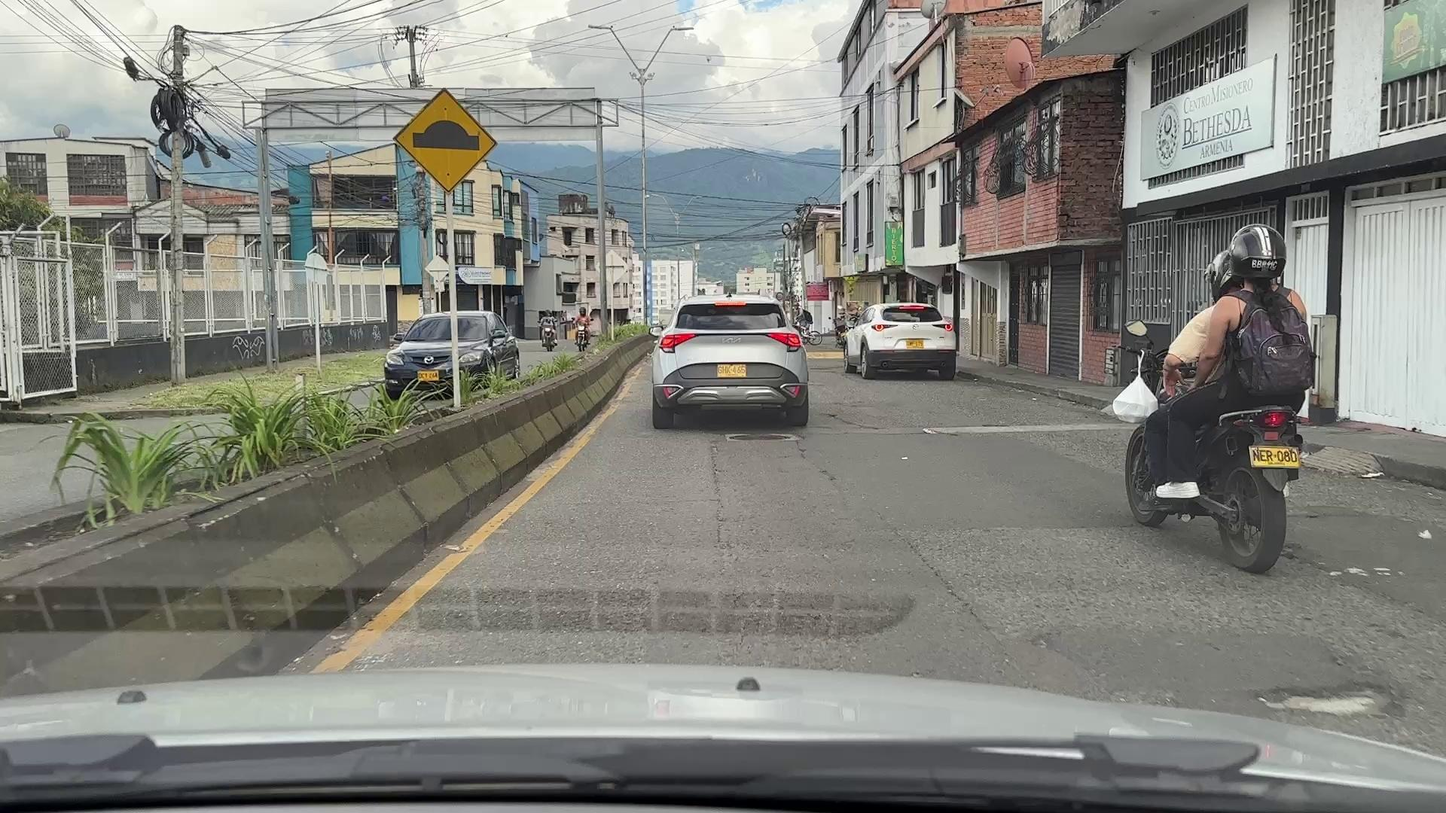bache: (1247, 681, 1386, 714), (922, 424, 1124, 435)
registro: (729, 435, 791, 440)
